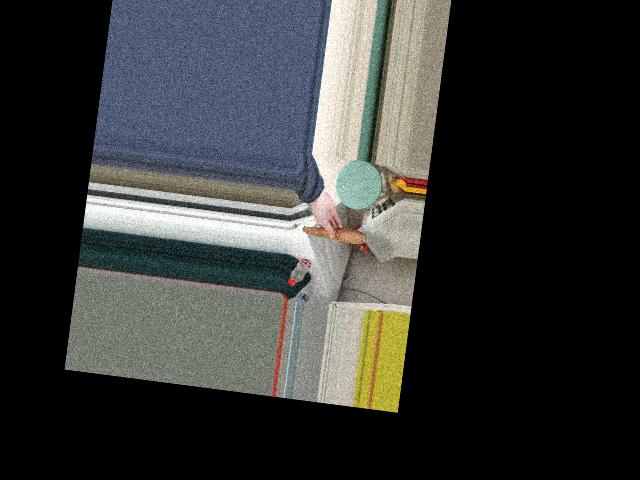sweet_potato: (300, 217, 366, 246)
